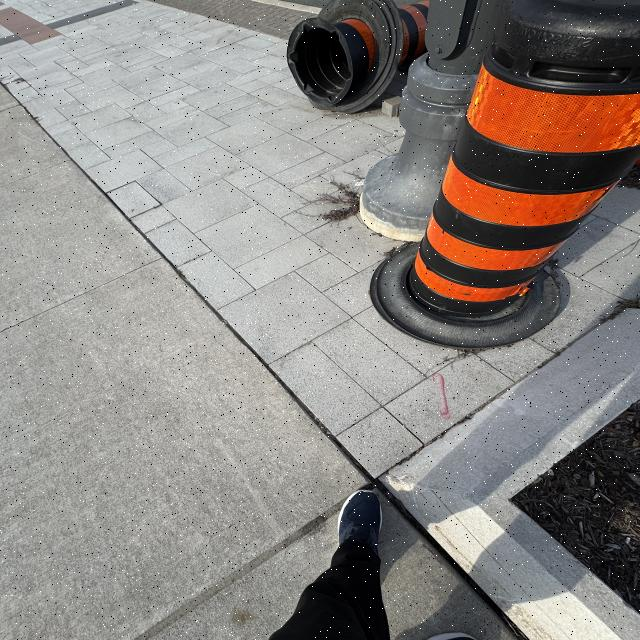Teraffic Barrel: (372, 0, 640, 347), (287, 0, 429, 113)
